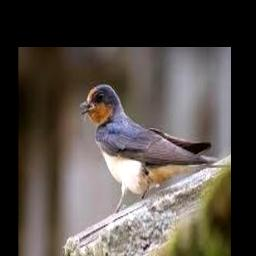Swallow: (79, 85, 217, 213)
